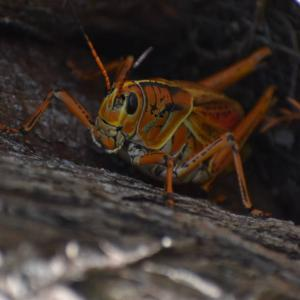locust: (64, 26, 298, 198)
